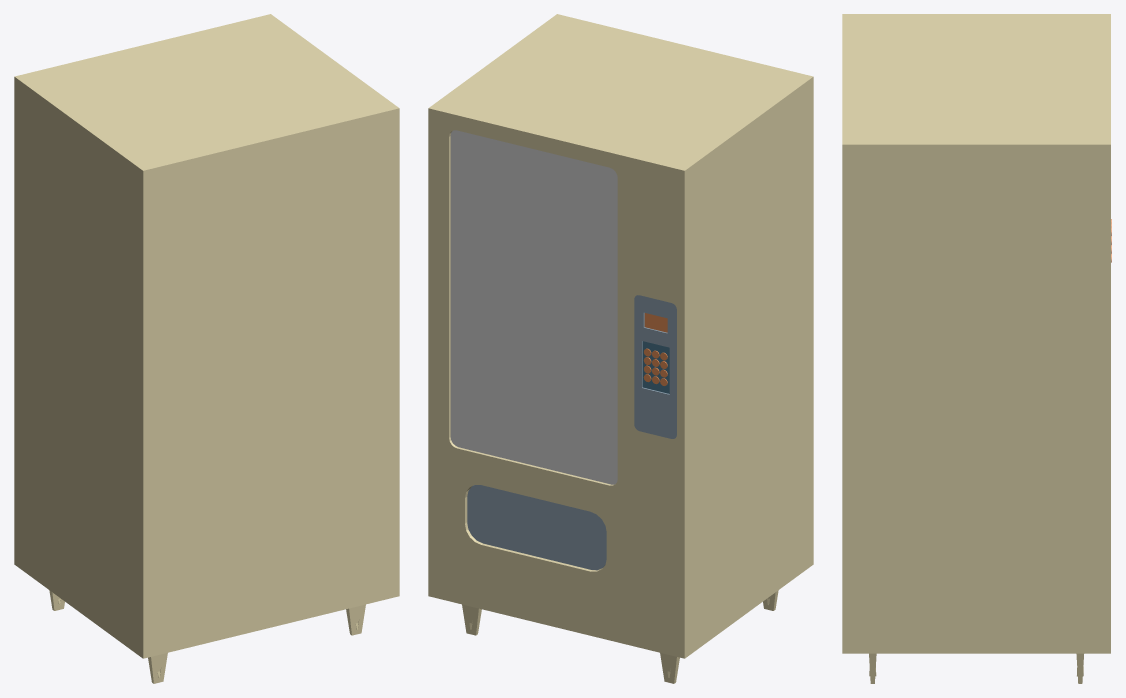
Rendered from vending-machine.glb.
3 renders of one model, left to right at view 1: azimuth 30°, elevation 25°; view 2: azimuth 150°, elevation 25°; view 3: azimuth 270°, elevation 25°, orthographic. The views are drawn at different scales.
Visible parts, largest first — view 1: box; view 2: box, glass, door, panel, digits; view 3: box.
Boxes of the visible parts, box(x1,y1,x2,y2) form: box: box(14, 14, 399, 683); box: box(428, 14, 813, 683); glass: box(450, 130, 617, 484); door: box(467, 485, 606, 570); panel: box(634, 295, 676, 438); digits: box(642, 341, 669, 393); box: box(842, 14, 1110, 683).
Bounding box in the file's own units: 0.9426 × 1.88 × 0.8227.
